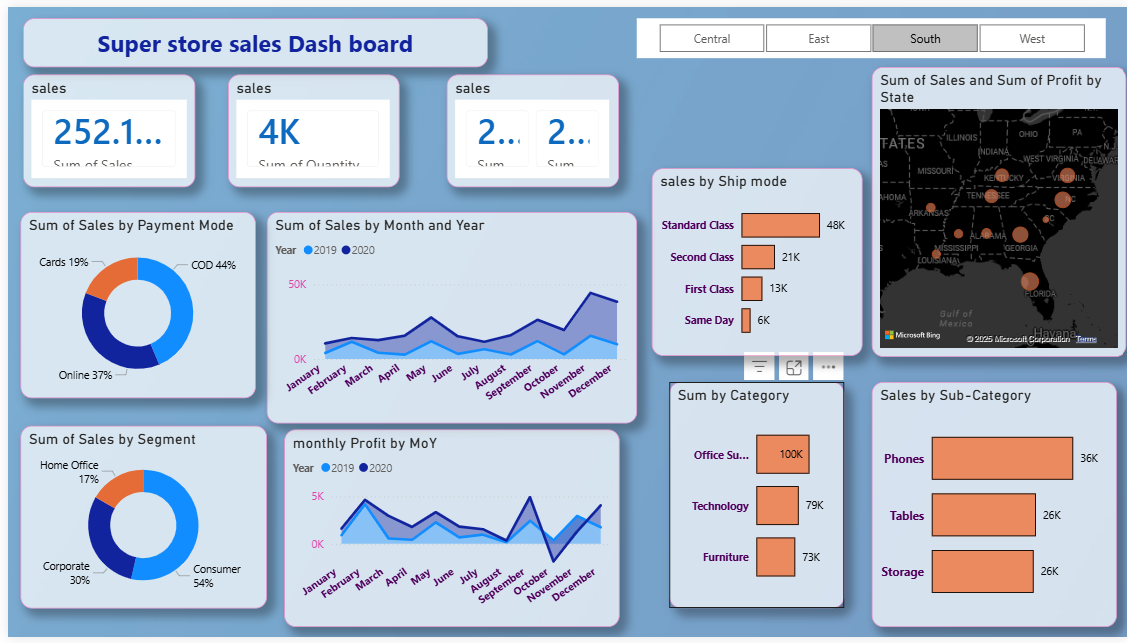

The page's visual inventory and layout, read from the dashboard file:
{"tool":"powerbi","page":{"name":"Page 1","canvas":[1280,720],"ordinal":0},"visuals":[{"type":"clusteredBarChart","title":"Sum by Category","fields":{"Category":["SuperStore_Sales_Dataset.Category"],"Y":["Sum(SuperStore_Sales_Dataset.Sales)"]},"box":[755.7,428.6,200,258.6],"z":0},{"type":"clusteredBarChart","title":"Sales by Sub-Category","fields":{"Category":["SuperStore_Sales_Dataset.Sub-Category"],"Y":["Sum(SuperStore_Sales_Dataset.Sales)"]},"box":[987.1,428.6,280,280],"z":1000},{"type":"clusteredBarChart","title":"sales  by Ship mode","fields":{"Category":["SuperStore_Sales_Dataset.Ship Mode"],"Y":["Sum(SuperStore_Sales_Dataset.Sales)"]},"box":[735.9,184.4,240.6,214.1],"z":2000},{"type":"stackedAreaChart","fields":{"Y":["Sum(SuperStore_Sales_Dataset.Sales)"],"Category":["SuperStore_Sales_Dataset.Order Date.Variation.Date Hierarchy.Month","SuperStore_Sales_Dataset.Order Date.Variation.Date Hierarchy.Day"],"Series":["SuperStore_Sales_Dataset.Order Date.Variation.Date Hierarchy.Year"]},"box":[295.7,234.3,422.9,241.4],"z":3000},{"type":"stackedAreaChart","title":"monthly Profit by MoY","fields":{"Category":["SuperStore_Sales_Dataset.Order Date.Variation.Date Hierarchy.Month","SuperStore_Sales_Dataset.Order Date.Variation.Date Hierarchy.Day"],"Series":["SuperStore_Sales_Dataset.Order Date.Variation.Date Hierarchy.Year"],"Y":["Sum(SuperStore_Sales_Dataset.Profit)"]},"box":[315.7,482.9,382.9,225.7],"z":4000},{"type":"map","fields":{"Category":["SuperStore_Sales_Dataset.State"],"Size":["Sum(SuperStore_Sales_Dataset.Sales)"]},"box":[987.5,68.8,292.2,331.2],"z":5000},{"type":"donutChart","fields":{"Category":["SuperStore_Sales_Dataset.Segment"],"Y":["Sum(SuperStore_Sales_Dataset.Sales)"]},"box":[14.3,478.6,281.4,208.6],"z":6000},{"type":"donutChart","fields":{"Category":["SuperStore_Sales_Dataset.Payment Mode"],"Y":["Sum(SuperStore_Sales_Dataset.Sales)"]},"box":[14.3,234.3,268.6,212.9],"z":7000},{"type":"slicer","fields":{"Values":["SuperStore_Sales_Dataset.Region"]},"box":[718.8,12.5,535.9,45.3],"z":8000},{"type":"textbox","box":[17.2,12.5,531.2,56.2],"z":9000},{"type":"cardVisual","title":"          sales","fields":{"Data":["Sum(SuperStore_Sales_Dataset.Sales)"]},"box":[17.1,77.1,197.1,128.6],"z":10000},{"type":"cardVisual","title":"          sales","fields":{"Data":["Sum(SuperStore_Sales_Dataset.Quantity)"]},"box":[251.4,77.1,195.7,128.6],"z":10001},{"type":"cardVisual","title":"          sales","fields":{"Data":["Sum(SuperStore_Sales_Dataset.Sales)","Sum(SuperStore_Sales_Dataset.Profit)"]},"box":[501.4,77.1,197.1,128.6],"z":10002}]}

Visuals, with their boxes in screenshot pixels (x1, y1, x2, y2), scaled from the page's 1280x720 canvas onto the 1127x643 screenshot:
"Sum by Category" clusteredBarChart: (665, 383, 841, 614)
"Sales by Sub-Category" clusteredBarChart: (869, 383, 1116, 633)
"sales  by Ship mode" clusteredBarChart: (648, 165, 860, 356)
stackedAreaChart - Sum(SuperStore_Sales_Dataset.Sales) x SuperStore_Sales_Dataset.Order Date.Variation.Date Hierarchy.Month: (260, 209, 633, 425)
"monthly Profit by MoY" stackedAreaChart: (278, 431, 615, 633)
map - SuperStore_Sales_Dataset.State x Sum(SuperStore_Sales_Dataset.Sales): (869, 61, 1126, 357)
donutChart - SuperStore_Sales_Dataset.Segment x Sum(SuperStore_Sales_Dataset.Sales): (13, 427, 260, 614)
donutChart - SuperStore_Sales_Dataset.Payment Mode x Sum(SuperStore_Sales_Dataset.Sales): (13, 209, 249, 399)
slicer - SuperStore_Sales_Dataset.Region: (633, 11, 1105, 52)
textbox: (15, 11, 483, 61)
"          sales" cardVisual: (15, 69, 189, 184)
"          sales" cardVisual: (221, 69, 394, 184)
"          sales" cardVisual: (441, 69, 615, 184)
